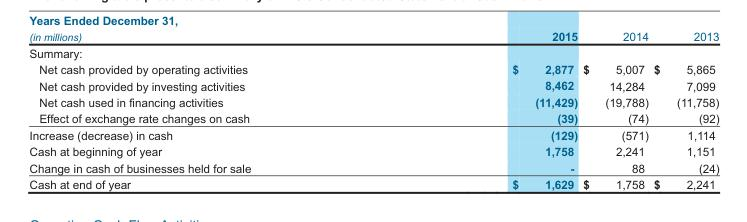table: (28, 29, 718, 190)
table column: (28, 29, 380, 190), (380, 29, 579, 190), (579, 29, 650, 190), (650, 29, 718, 190)
table column header: (28, 29, 718, 44)
table projected row header: (28, 44, 718, 60)
table row: (28, 60, 718, 77), (28, 93, 718, 110), (28, 126, 718, 143), (28, 159, 718, 176), (28, 44, 718, 60), (28, 77, 718, 93), (28, 110, 718, 126), (28, 143, 718, 159), (28, 29, 718, 44), (28, 176, 718, 190)
